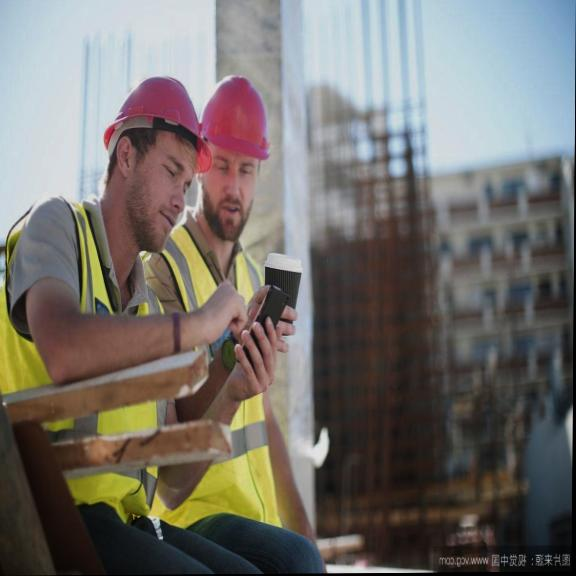safety_vest: (0, 188, 146, 527)
